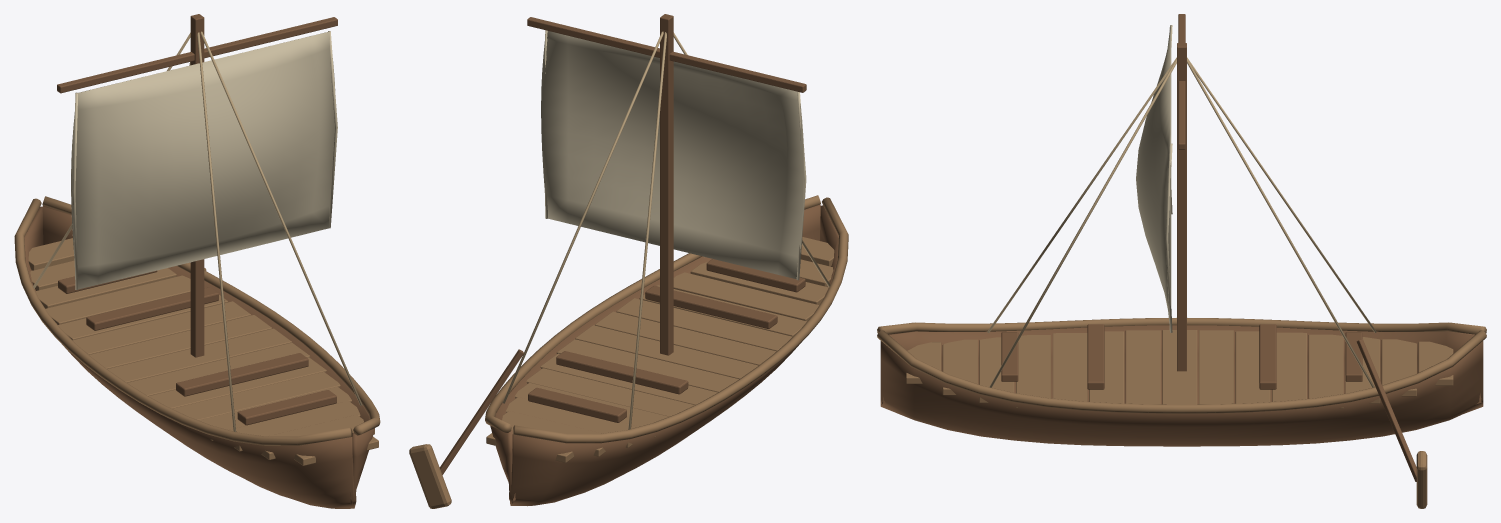
Rendered from merchant-ship.glb.
The picture shows the model from 3 angles, left to right: view 1: azimuth 30°, elevation 25°; view 2: azimuth 150°, elevation 25°; view 3: azimuth 270°, elevation 25°; orthographic projection. The views are drawn at different scales.
Visible parts, largest first — view 1: merchant-ship__Visual_matte; view 2: merchant-ship__Visual_matte; view 3: merchant-ship__Visual_matte.
Part boxes in pixels (left/top/right/bottom): merchant-ship__Visual_matte: left=14, top=14, right=380, bottom=508; merchant-ship__Visual_matte: left=409, top=14, right=848, bottom=508; merchant-ship__Visual_matte: left=877, top=14, right=1486, bottom=508.
Size of the model in its own units: 2.86 by 4.23 by 5.67.
